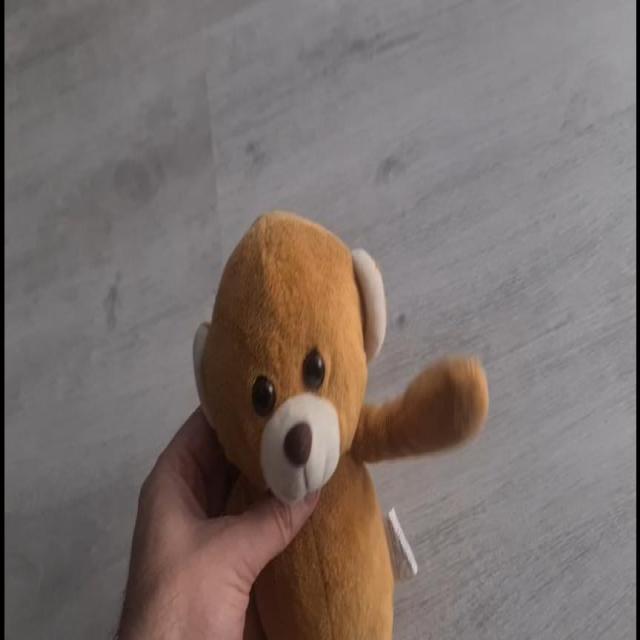soft-toy: (196, 214, 489, 640)
